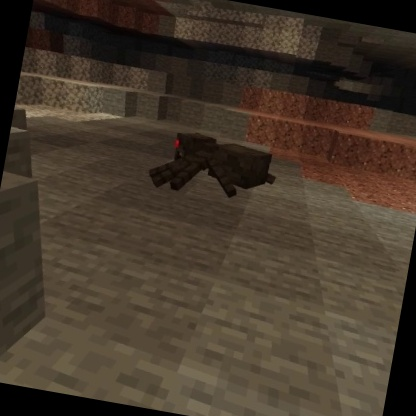spider: (143, 124, 284, 211)
